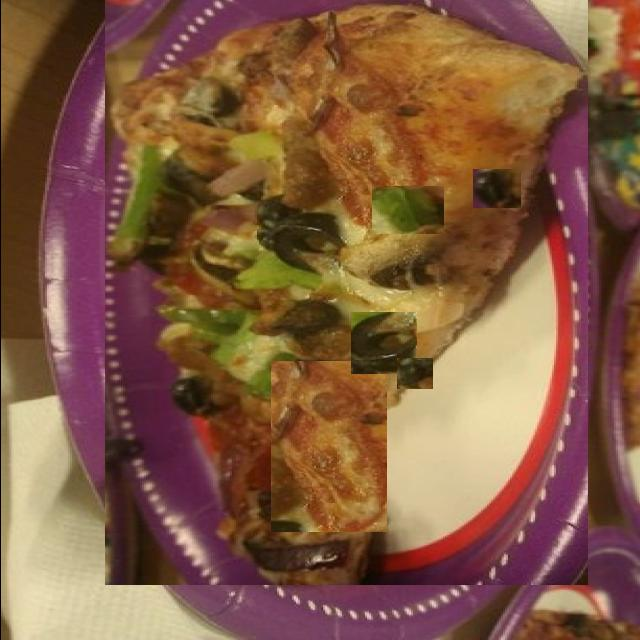basil: (371, 186, 443, 234)
olive: (350, 312, 416, 374), (472, 170, 520, 210), (396, 358, 432, 389), (455, 466, 481, 501)
pepperoni: (270, 361, 386, 532)
pizza: (104, 0, 587, 585)
